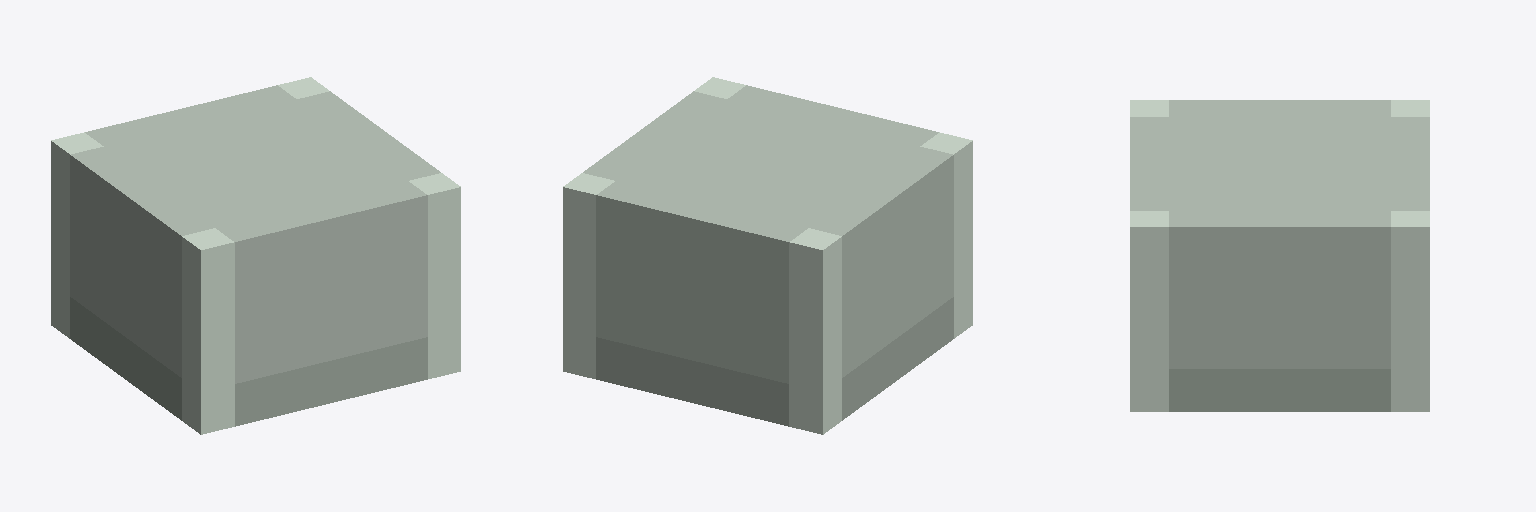
File: tile_049.obj
3 renders of one model, left to right at view 1: azimuth 30°, elevation 25°; view 2: azimuth 150°, elevation 25°; view 3: azimuth 270°, elevation 25°, orthographic.
Parts seen in each view (by area): view 1: tile_049; view 2: tile_049; view 3: tile_049.
Part boxes in pixels (x1,y1,x2,y2): tile_049: (51,77,460,434); tile_049: (563,77,972,434); tile_049: (1130,100,1429,411).
Size of the model in its own units: 0.5901 by 0.4 by 0.5901.